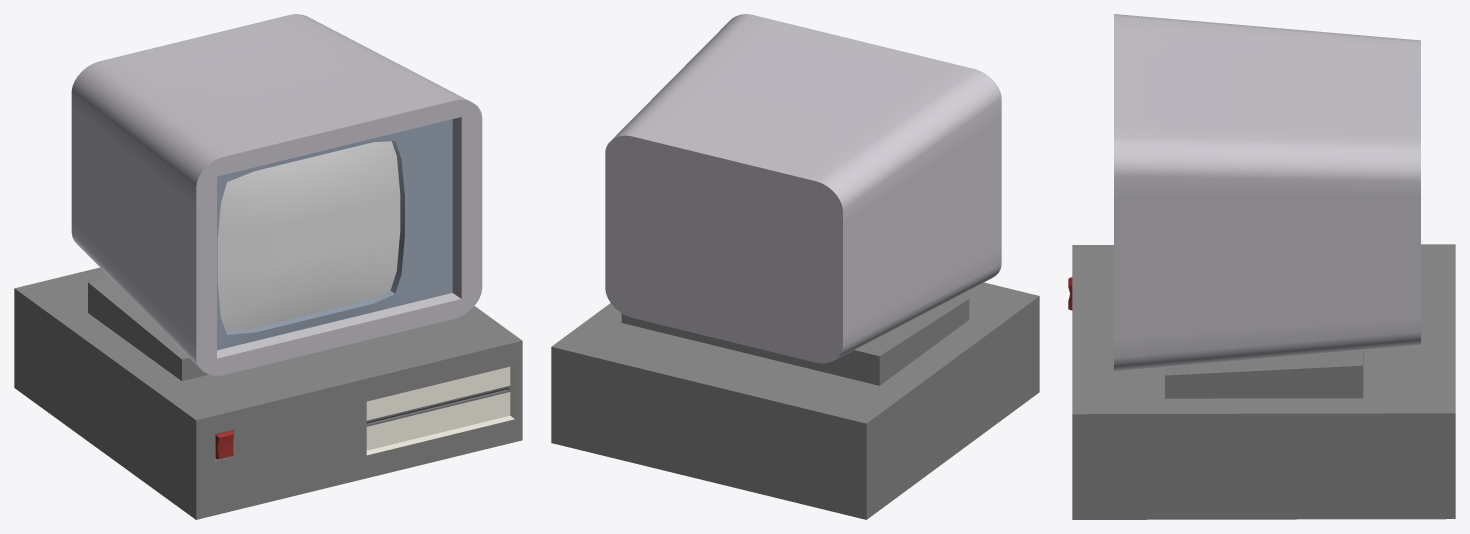
Rendered from Bilgisayar_2.fbx.
The picture shows the model from 3 angles, left to right: view 1: azimuth 30°, elevation 25°; view 2: azimuth 150°, elevation 25°; view 3: azimuth 270°, elevation 25°; orthographic projection. The views are drawn at different scales.
Visible parts, largest first — view 1: Bilgisayar; view 2: Bilgisayar; view 3: Bilgisayar.
Part boxes in pixels (<box>): Bilgisayar: <box>14,14,522,519</box>; Bilgisayar: <box>551,14,1039,519</box>; Bilgisayar: <box>1068,14,1455,519</box>.
Size of the model in its own units: 162 by 159 by 156.
